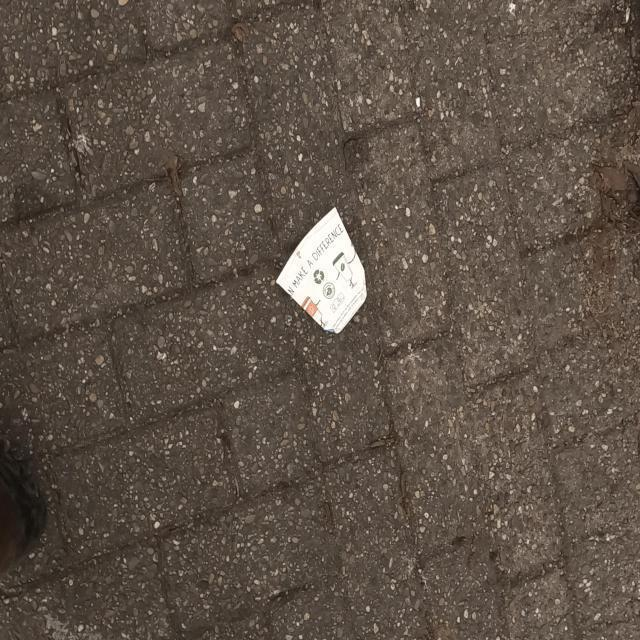Cup: (282, 201, 368, 332)
